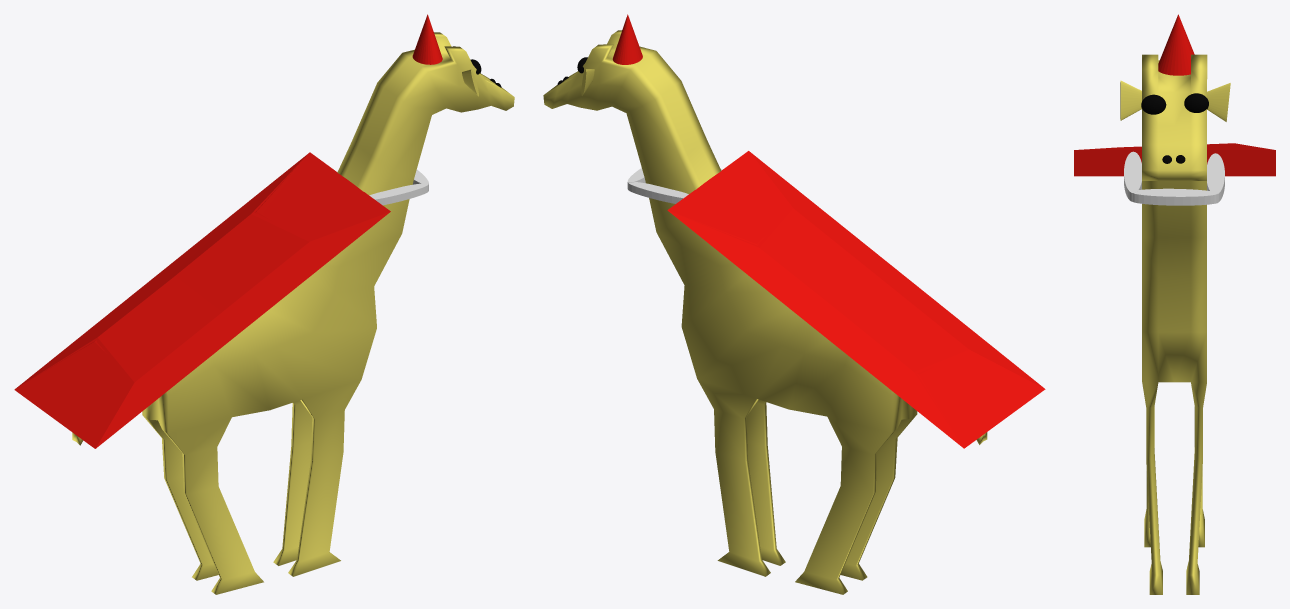
The model's file is held2.glb.
3 views of the same model, side by side, from view 1: azimuth 30°, elevation 25°; view 2: azimuth 150°, elevation 25°; view 3: azimuth 270°, elevation 25° (orthographic). The views are drawn at different scales.
Visible parts, largest first — view 1: Plane.001, Cube, Cone.002, Cylinder.001; view 2: Plane.001, Cube, Cone.002, Cylinder.002; view 3: Plane.001, Cube, Cone.002, Cylinder, Cylinder.001, Cylinder.002, Cone, Cone.001, Sphere, Sphere.001.
Boxes of the visible parts, x1,y1,x2,y2 form: Plane.001: (72,32,514,594); Cube: (14,152,390,448); Cone.002: (412,14,442,64); Cylinder.001: (369,183,428,205); Plane.001: (543,30,987,594); Cube: (667,151,1045,448); Cone.002: (612,14,642,64); Cylinder.002: (628,182,688,203); Plane.001: (1142,54,1207,594); Cube: (1074,143,1275,176); Cone.002: (1158,14,1194,75); Cylinder: (1132,188,1217,205); Cylinder.001: (1124,151,1141,201); Cylinder.002: (1207,153,1224,203); Cone: (1120,80,1141,120); Cone.001: (1207,83,1230,121); Sphere: (1141,94,1166,114); Sphere.001: (1184,93,1208,112).
Size of the model in its own units: 2.23 by 2.47 by 0.7003.
